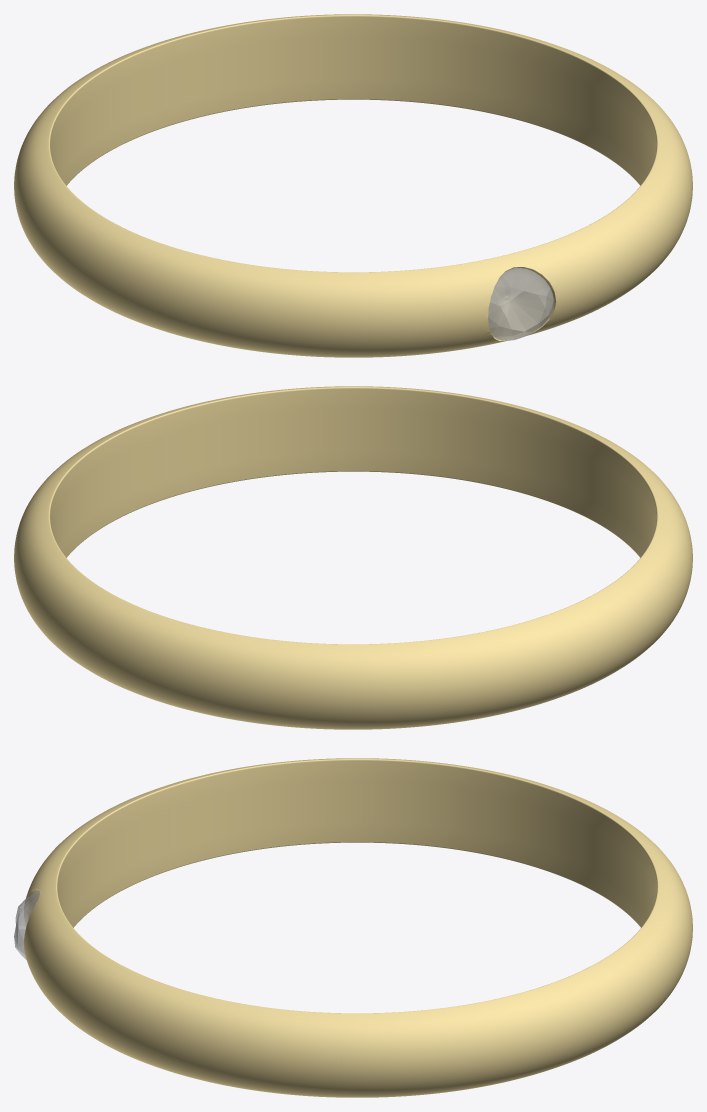
Rendered from 272_2.0mmSL.glb.
3 renders of one model, top to bottom at view 1: azimuth 30°, elevation 25°; view 2: azimuth 150°, elevation 25°; view 3: azimuth 270°, elevation 25°, orthographic.
Parts seen in each view (by area): view 1: Base_metal, Engraving_Metal, Diamond_Metal; view 2: Base_metal, Engraving_Metal; view 3: Base_metal, Engraving_Metal, Diamond_Metal.
Boxes of the visible parts, bbox=[...] form: Base_metal: bbox=[14, 14, 692, 357]; Engraving_Metal: bbox=[50, 17, 656, 185]; Diamond_Metal: bbox=[488, 268, 553, 340]; Base_metal: bbox=[14, 386, 692, 729]; Engraving_Metal: bbox=[50, 389, 656, 557]; Base_metal: bbox=[24, 758, 692, 1097]; Engraving_Metal: bbox=[57, 760, 657, 927]; Diamond_Metal: bbox=[14, 890, 40, 959].
Bounding box in the file's own units: 1.8 × 0.2475 × 1.83.
